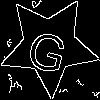G: (24, 20, 72, 75)
